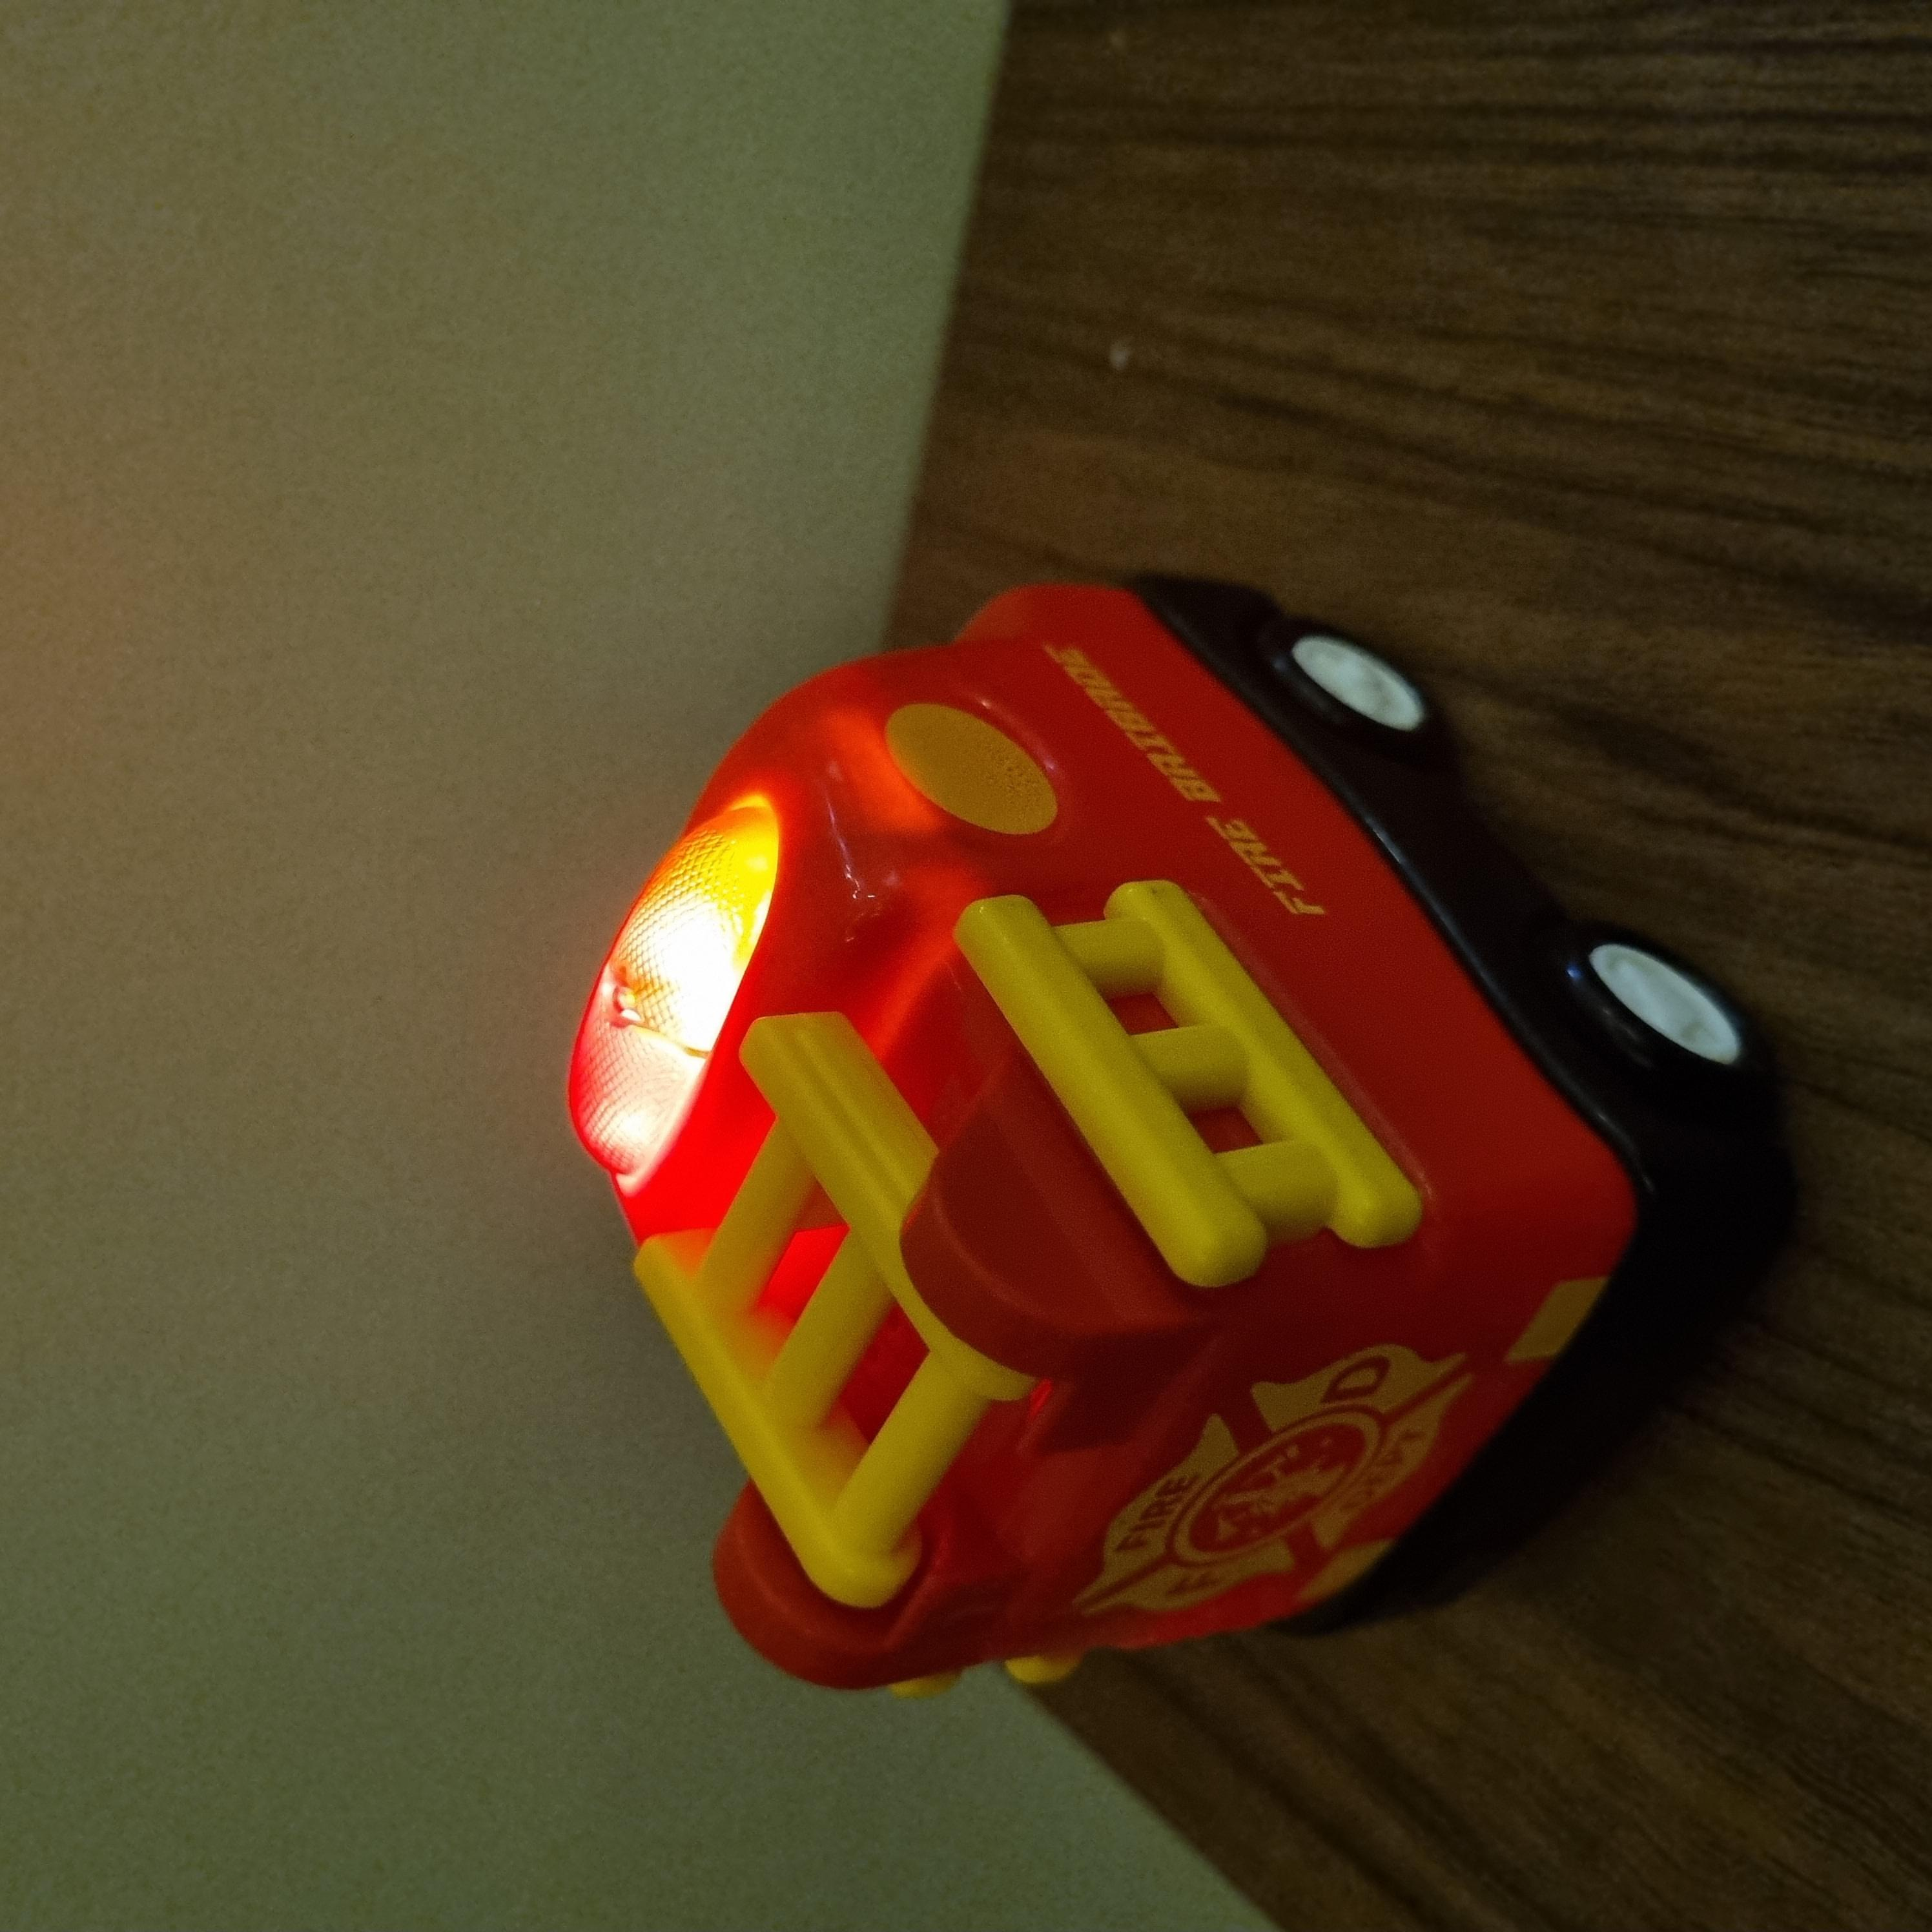firetruck_on: (228, 557, 1352, 1798)
